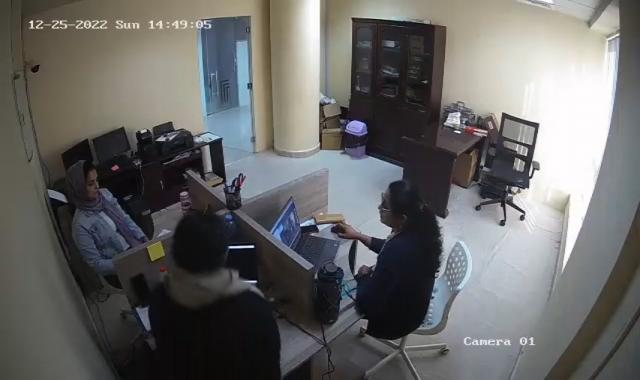no_hairnet: (173, 213, 225, 275), (375, 180, 424, 230), (63, 159, 99, 202)
